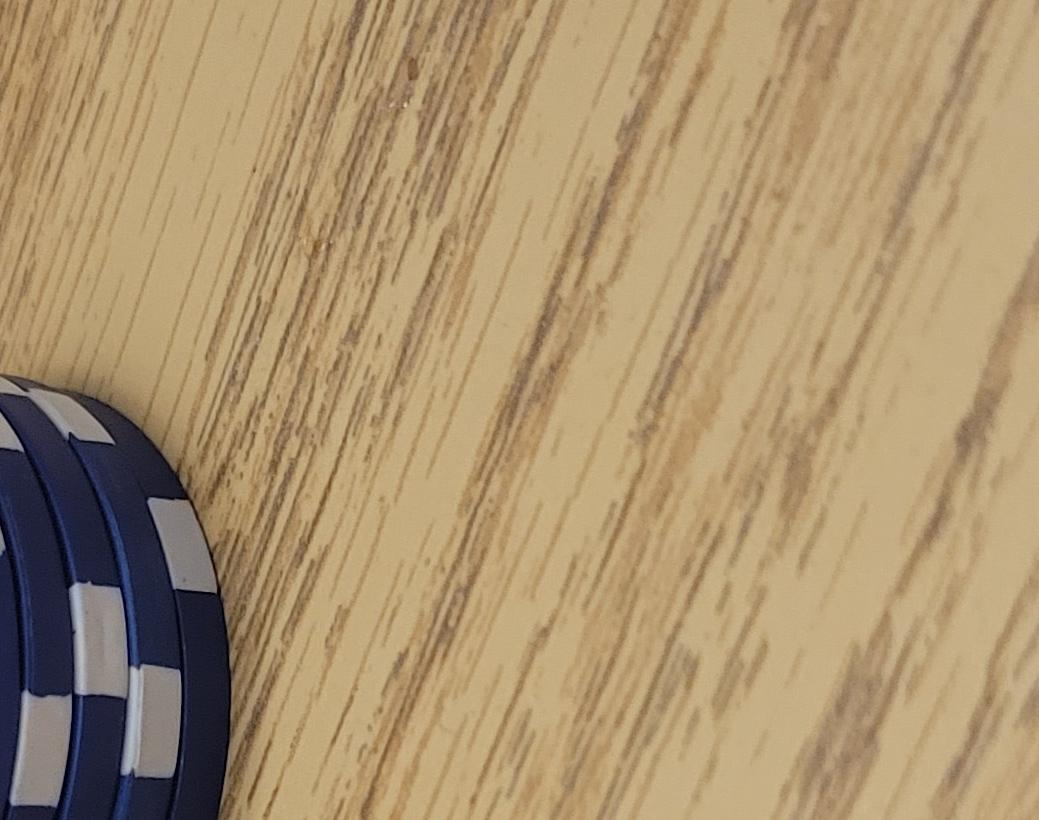Chip: (1, 222, 361, 820)
